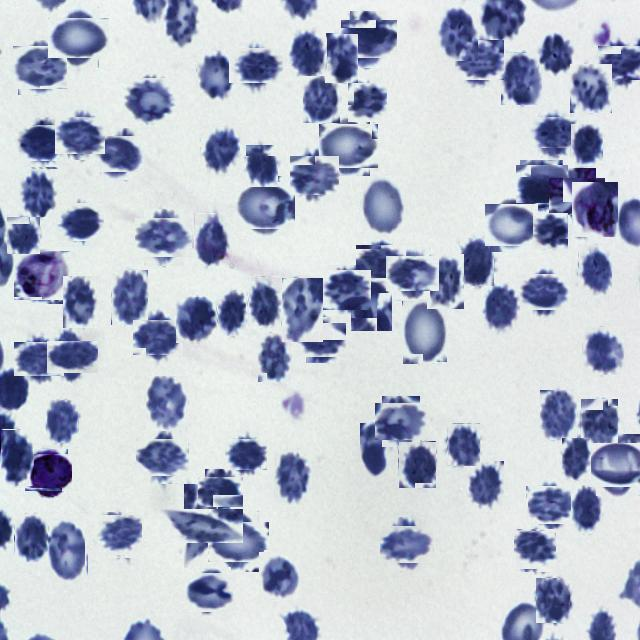gametocyte: (28, 451, 70, 494)
red blood cell: (172, 496, 230, 556), (402, 298, 447, 364), (238, 180, 292, 232), (44, 519, 88, 582), (322, 120, 374, 172), (282, 278, 323, 342), (53, 12, 104, 63), (213, 516, 264, 567), (591, 439, 640, 492), (360, 176, 404, 234), (126, 76, 176, 126), (145, 375, 188, 431), (15, 43, 64, 92), (350, 276, 392, 332), (140, 213, 188, 262), (518, 162, 566, 210), (487, 201, 535, 249), (500, 52, 542, 105), (346, 16, 392, 64), (554, 172, 600, 220), (438, 6, 478, 61), (196, 50, 238, 102), (140, 434, 186, 480), (384, 522, 430, 568), (188, 570, 234, 616), (233, 42, 279, 88), (16, 168, 58, 218), (111, 269, 148, 325), (456, 38, 502, 83), (570, 64, 612, 113), (582, 326, 624, 375), (274, 451, 312, 505), (427, 254, 464, 309), (292, 154, 338, 198), (21, 120, 66, 164), (529, 483, 573, 528), (379, 399, 423, 444), (259, 552, 300, 600), (201, 125, 240, 175), (0, 429, 34, 486), (522, 270, 566, 314), (358, 242, 402, 286), (96, 132, 140, 176), (58, 113, 102, 157), (58, 200, 102, 244), (390, 252, 434, 296), (324, 268, 368, 312), (194, 213, 230, 266), (288, 30, 326, 80), (540, 390, 577, 440), (136, 316, 180, 358), (176, 297, 216, 343), (63, 276, 98, 328), (18, 338, 60, 381), (398, 441, 436, 488), (304, 76, 342, 123), (580, 398, 618, 445), (484, 283, 520, 332), (98, 514, 140, 556), (51, 336, 93, 378), (467, 461, 504, 508), (578, 244, 612, 295), (257, 332, 291, 382), (514, 530, 556, 570), (14, 513, 48, 562), (248, 276, 281, 326), (600, 42, 640, 83), (460, 238, 494, 286), (304, 320, 344, 360), (326, 33, 358, 83), (534, 113, 574, 152), (348, 82, 387, 122), (538, 33, 574, 76), (536, 578, 570, 623), (571, 485, 602, 534), (360, 423, 388, 477), (202, 472, 240, 510), (447, 423, 480, 466), (570, 123, 603, 166), (245, 144, 278, 187), (46, 399, 78, 443), (217, 289, 246, 336), (228, 436, 264, 472), (532, 213, 568, 249), (6, 216, 40, 254), (562, 438, 591, 480)
trophozoite: (15, 249, 68, 302), (572, 182, 618, 237)
